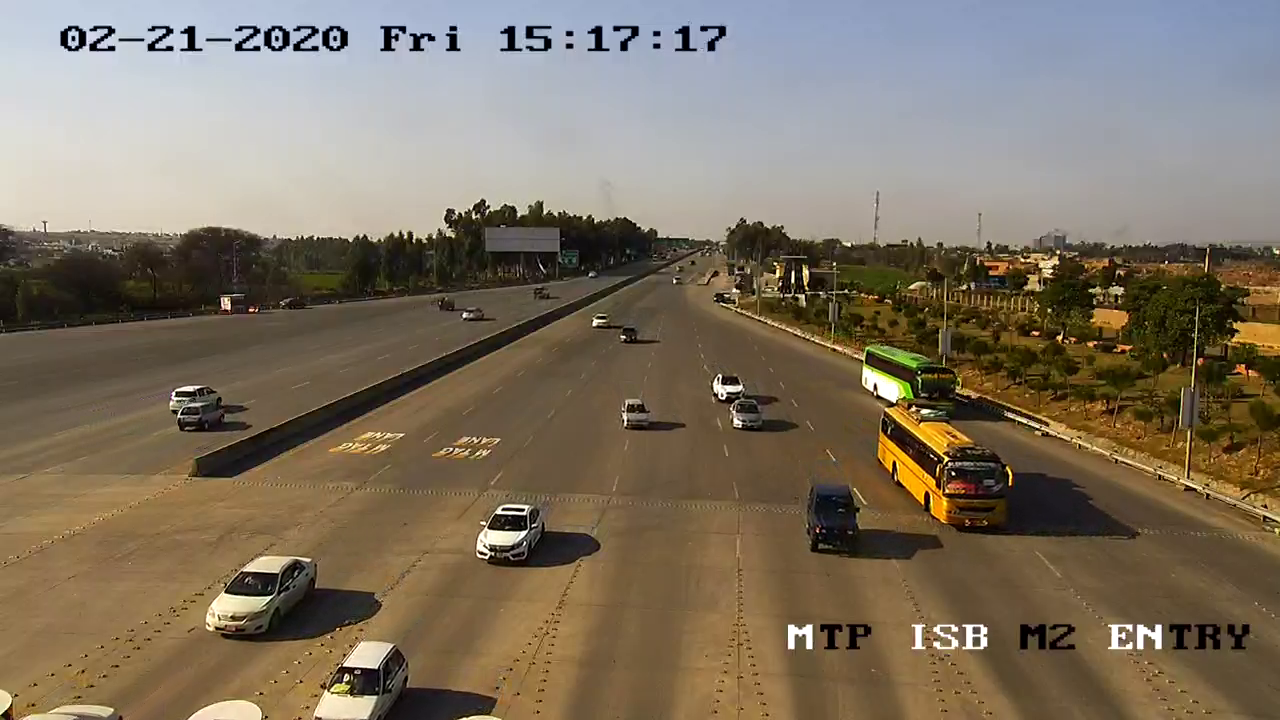f1: (196, 545, 324, 644), (468, 494, 555, 570), (800, 475, 868, 560), (723, 394, 770, 438), (616, 395, 655, 433)
f4: (875, 404, 1022, 542), (859, 338, 955, 418)
